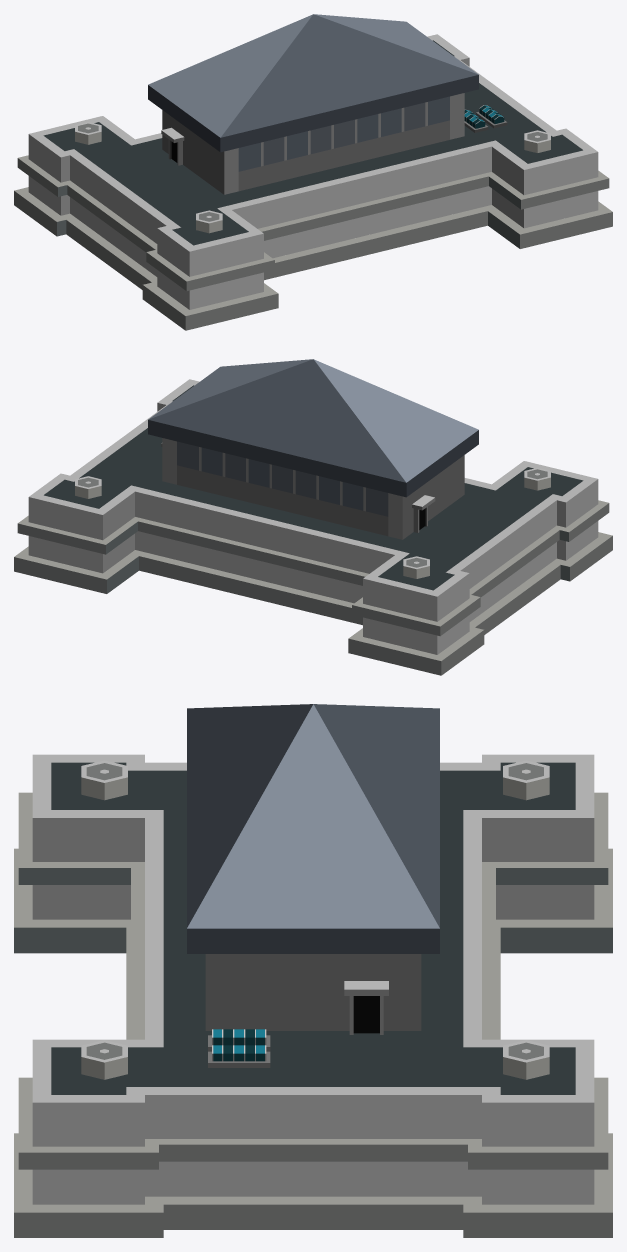
Rendered from TB_CITY_Skysc_K_Top_Gray.FBX.
The picture shows the model from 3 angles, top to bottom: view 1: azimuth 30°, elevation 25°; view 2: azimuth 150°, elevation 25°; view 3: azimuth 270°, elevation 25°; orthographic projection. The views are drawn at different scales.
Visible parts, largest first — view 1: TB_CITY_Skysc_K_Top_Gray; view 2: TB_CITY_Skysc_K_Top_Gray; view 3: TB_CITY_Skysc_K_Top_Gray.
Boxes of the visible parts, x1,y1,x2,y2 form: TB_CITY_Skysc_K_Top_Gray: [14, 14, 612, 330]; TB_CITY_Skysc_K_Top_Gray: [14, 359, 612, 675]; TB_CITY_Skysc_K_Top_Gray: [14, 704, 612, 1237].
Size of the model in its own units: 46 by 20.75 by 32.
